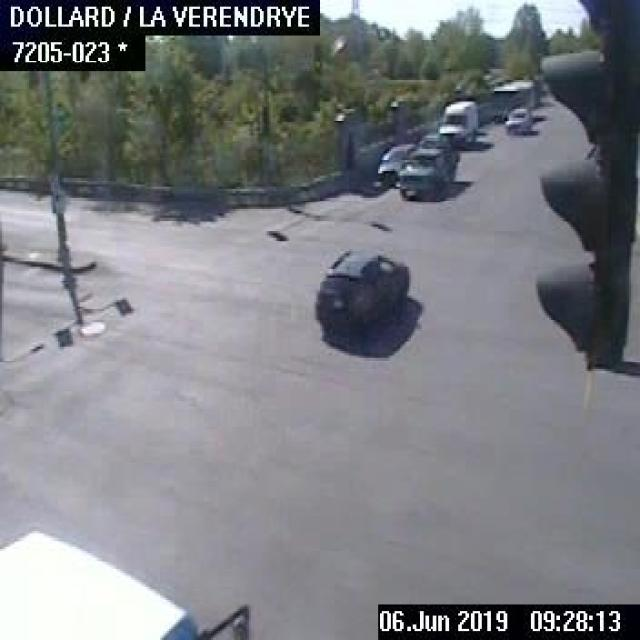bus: (489, 77, 536, 118)
vehicle: (0, 529, 247, 638), (311, 249, 409, 338), (396, 147, 447, 196), (437, 96, 477, 148), (378, 139, 413, 186), (500, 106, 536, 131)
